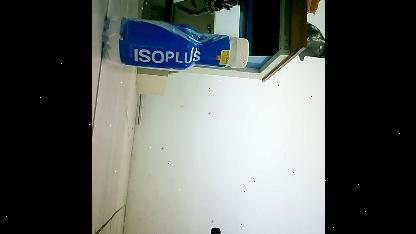Plastic Bottle: (100, 16, 248, 71)
